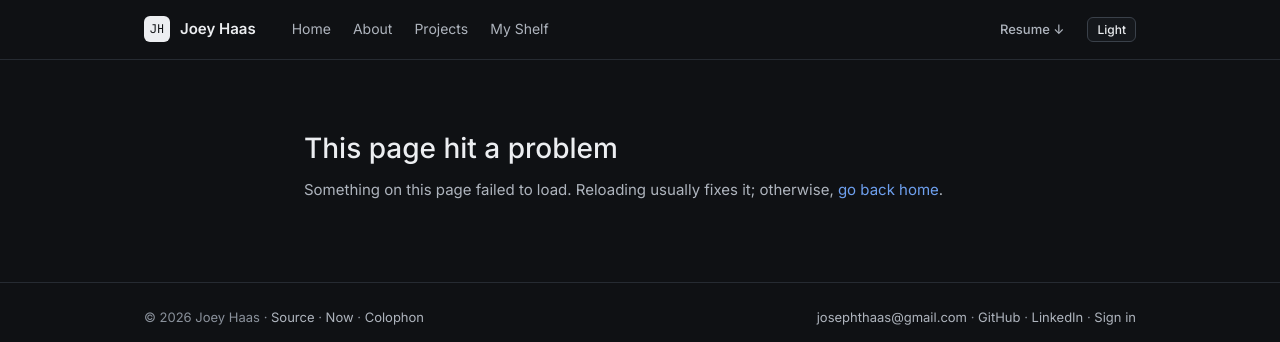
Scenario: RootLayout route changes › clears a page error on the next navigation
Click the link "About" at (373, 29), box top-left (353, 20), bottom-right (392, 38)
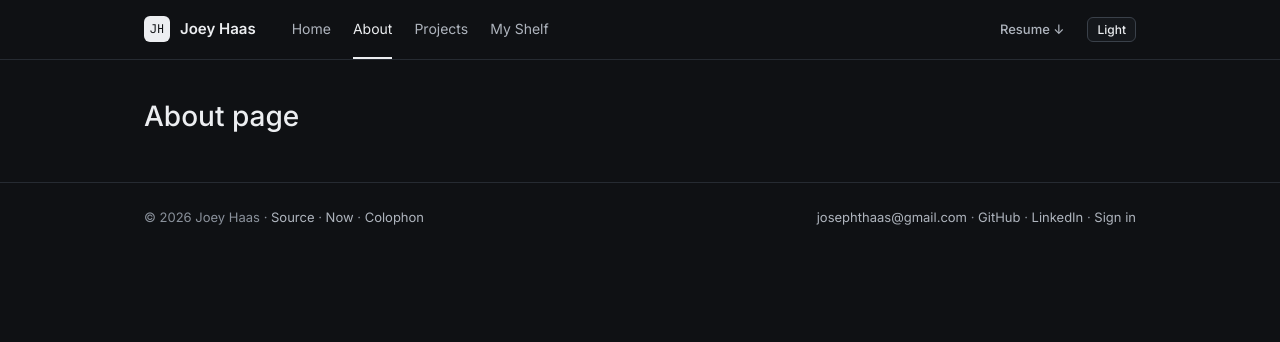
Check: the message is gone
Check: the heading "About page" is shown, box top-left (144, 99), bottom-right (299, 133)
